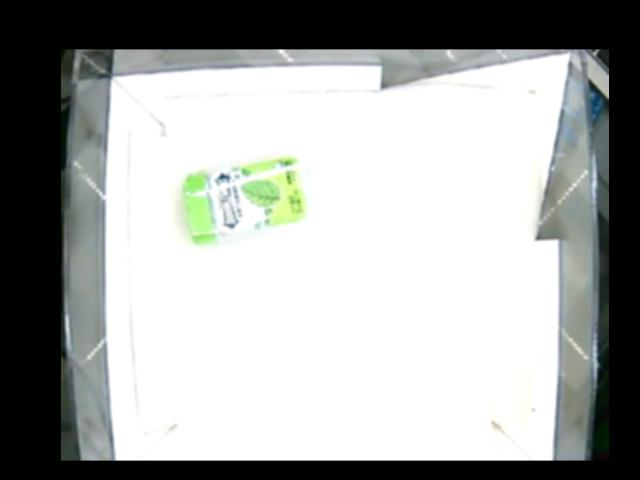Bottle: (184, 158, 312, 244)
